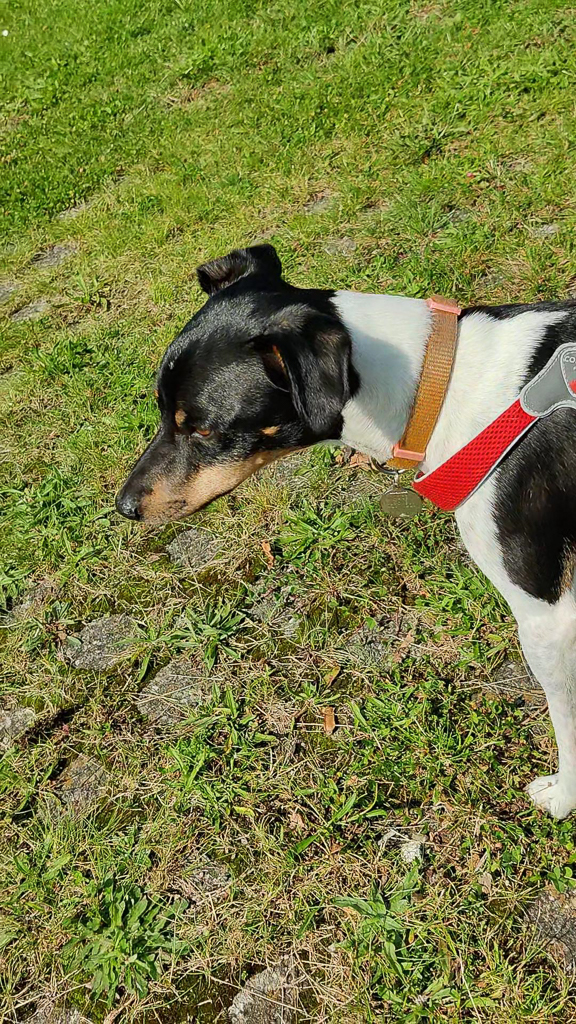Dog: (98, 231, 576, 831)
